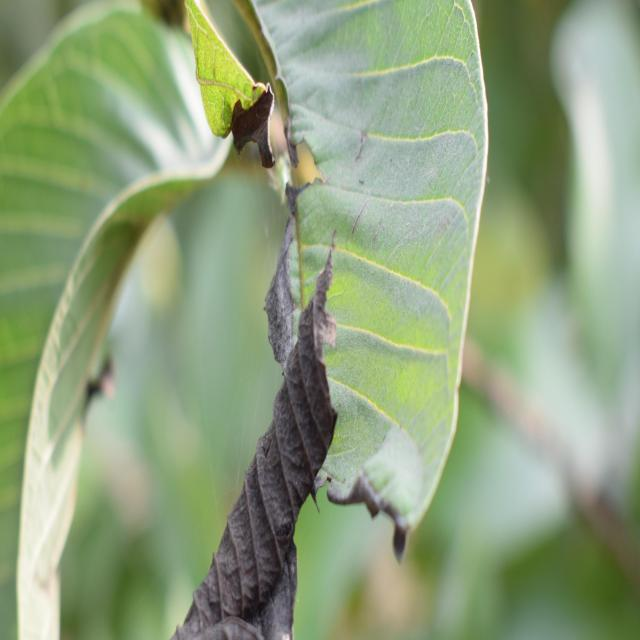Canker: (176, 2, 488, 639), (186, 0, 274, 163)
